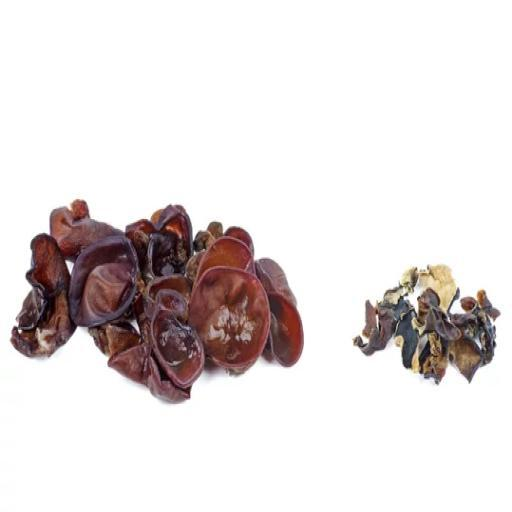mushroom: (13, 193, 310, 410), (346, 252, 503, 399)
